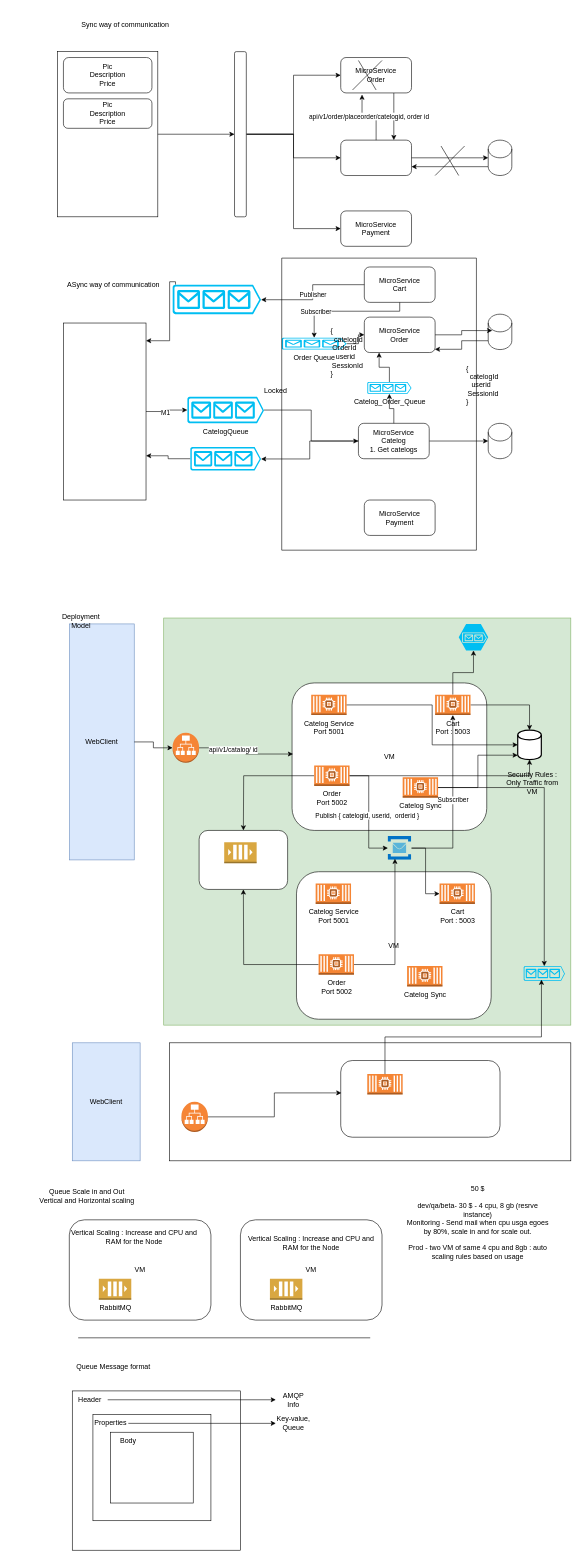
This 581x1561 diagram has some shape labels left out. The box of each missing label's shape, as (x1, y1, x2, y2) in pixels:
Cart Queue: (172, 284, 261, 314)
Catelog Master Service: (367, 1074, 403, 1094)
CatelogResultQueue { CatelogId }: (190, 447, 261, 470)
Container: rabbitMQ, kafka: (224, 842, 257, 863)
DB: (517, 729, 542, 760)
LB Rules /catalog -> /order ->: (172, 732, 199, 763)
MicroService Catelog: (340, 140, 412, 176)
WebClient api/v1/catelog/getcatelogs: (57, 51, 158, 217)
Webclient GetCatelog Data Subscribed to CateglogResultQueue: (63, 322, 146, 500)
{ "key" : "value" }: (110, 1432, 193, 1503)
